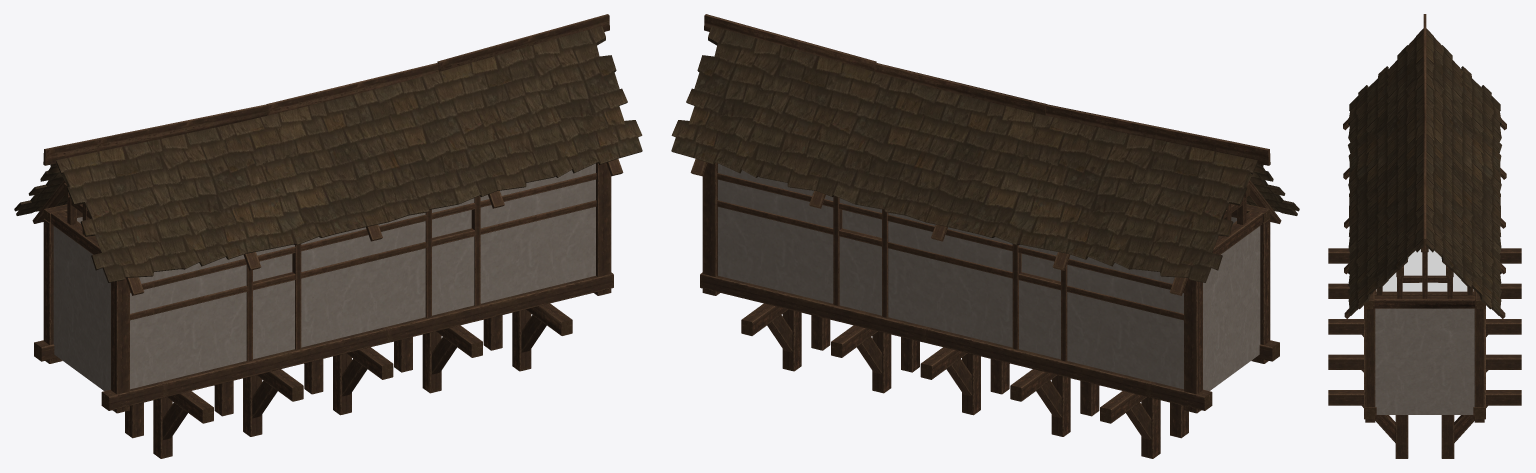
The model's file is Building1b.glb.
The picture shows the model from 3 angles, left to right: view 1: azimuth 30°, elevation 25°; view 2: azimuth 150°, elevation 25°; view 3: azimuth 270°, elevation 25°; orthographic projection. The views are drawn at different scales.
Visible parts, largest first — view 1: roof, wall, beams00; view 2: roof, wall, beams00; view 3: roof, beams00, wall, floor2.
Part boxes in pixels (x1,y1,x2,y2): roof: [14, 26, 642, 282]; wall: [53, 163, 595, 390]; beams00: [32, 14, 623, 458]; roof: [671, 26, 1299, 282]; wall: [718, 163, 1260, 390]; beams00: [690, 14, 1281, 458]; roof: [1348, 28, 1501, 315]; beams00: [1328, 14, 1521, 458]; wall: [1375, 308, 1474, 414]; floor2: [1376, 249, 1473, 291].
Bounding box in the file's own units: 12.6 × 6.82 × 4.6.
3 materials, 3 textured.
